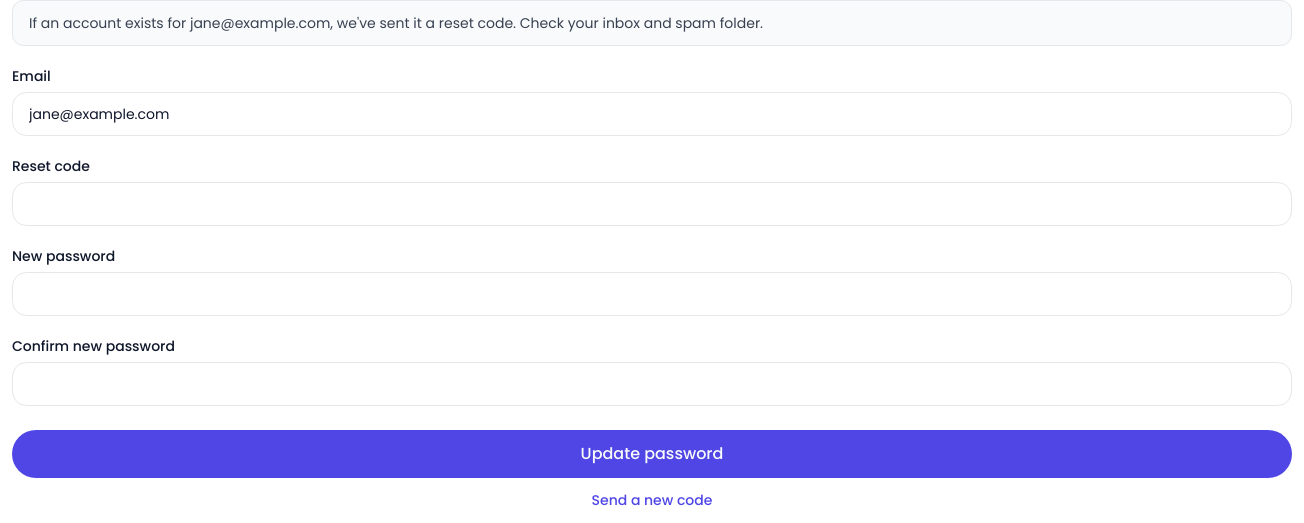
it: ResetPasswordForm › submits email, code and new password, then shows the done state
The image size is (1304, 523).
Type "123456" into the field labelled "Reset code" at x=652, y=204, box [12,182,1292,226]
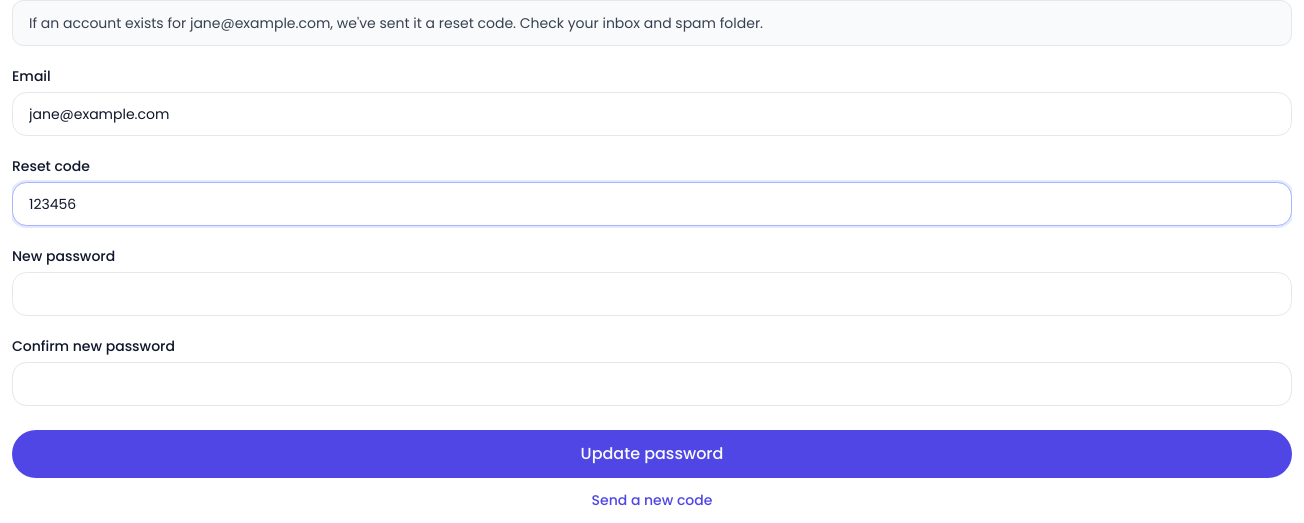
Type "NewPass123!" into the password field labelled "New password" at x=652, y=294, box [12,272,1292,316]
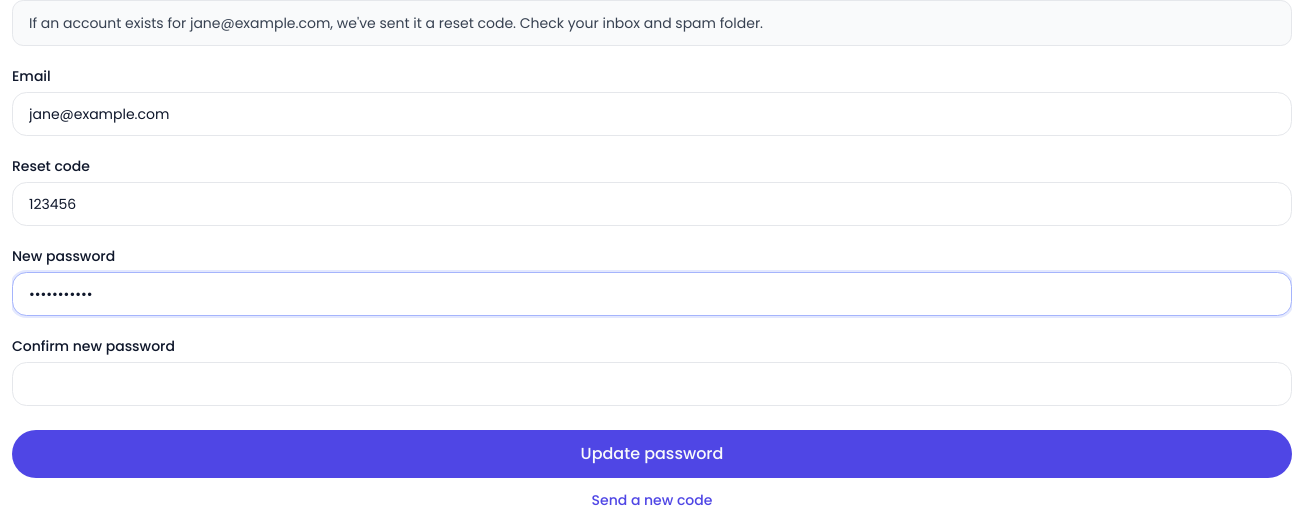
Type "NewPass123!" into the password field labelled "Confirm new password" at x=652, y=384, box [12,362,1292,406]
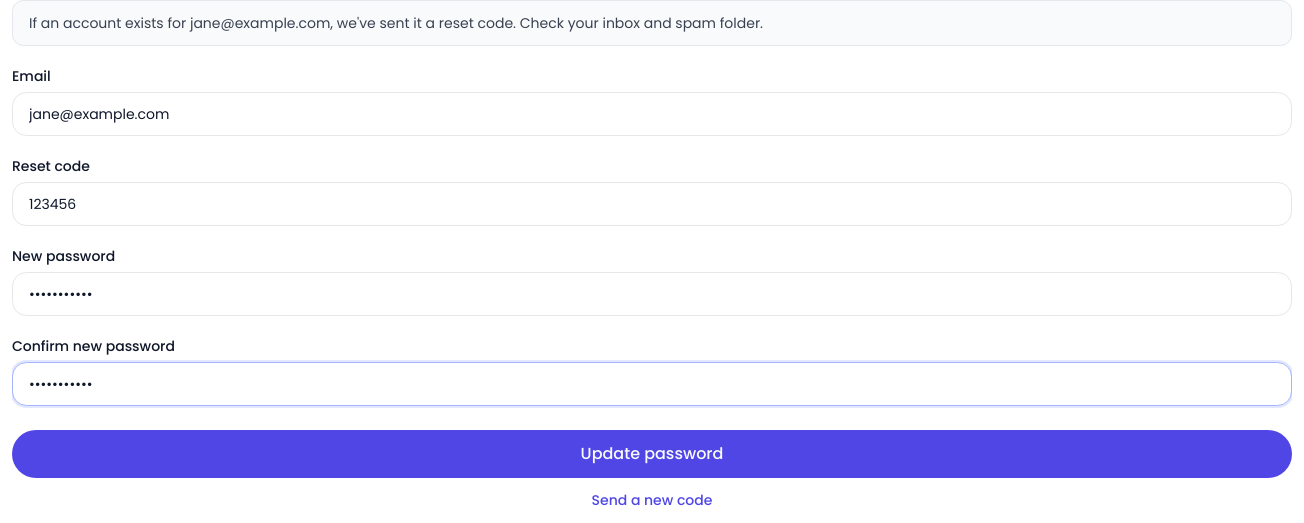
Click the button "Update password" at x=652, y=454, box [12,430,1292,478]
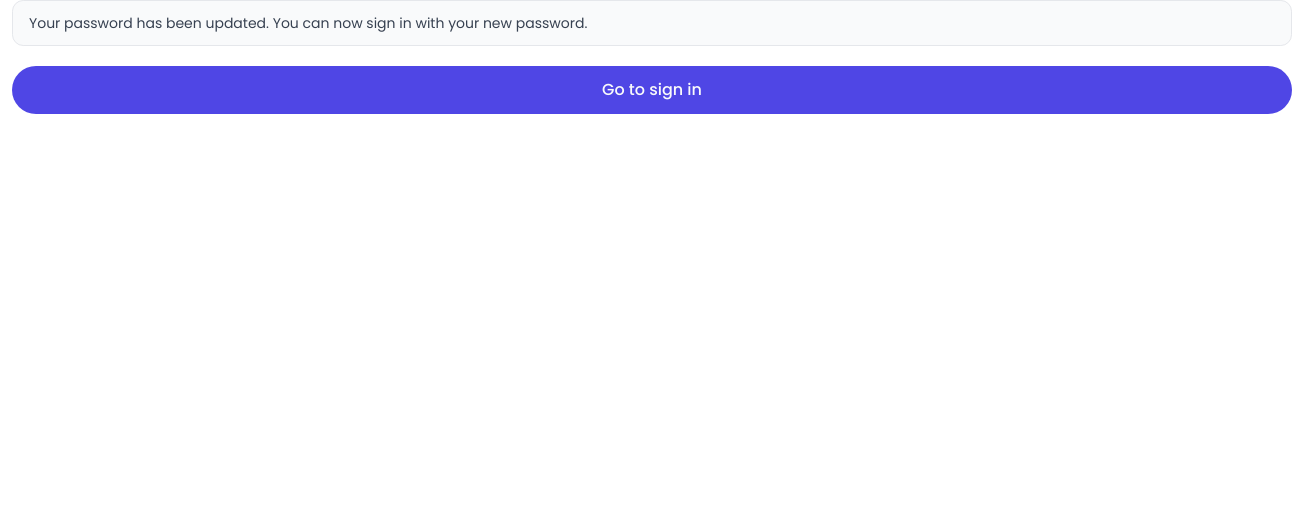
expect the text "Your password has been updated. You can now sign in with your new password." is shown: met, box [12,0,1292,46]
